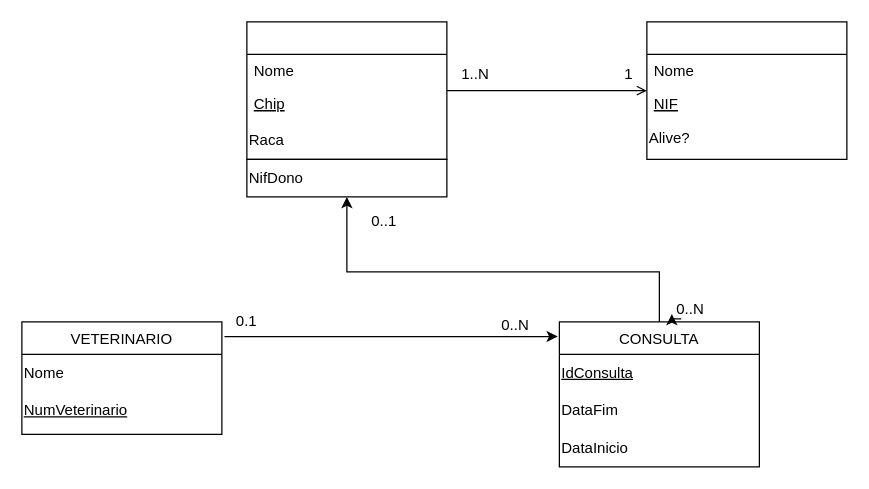
This 869x489 diagram has some shape labels left out. The box of each missing label's shape, as (x1, y1, x2, y2) in pixels:
ANIMAl: (246, 21, 447, 159)
DONO: (646, 21, 847, 159)
